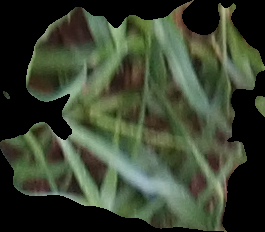grass: (1, 1, 263, 230)
